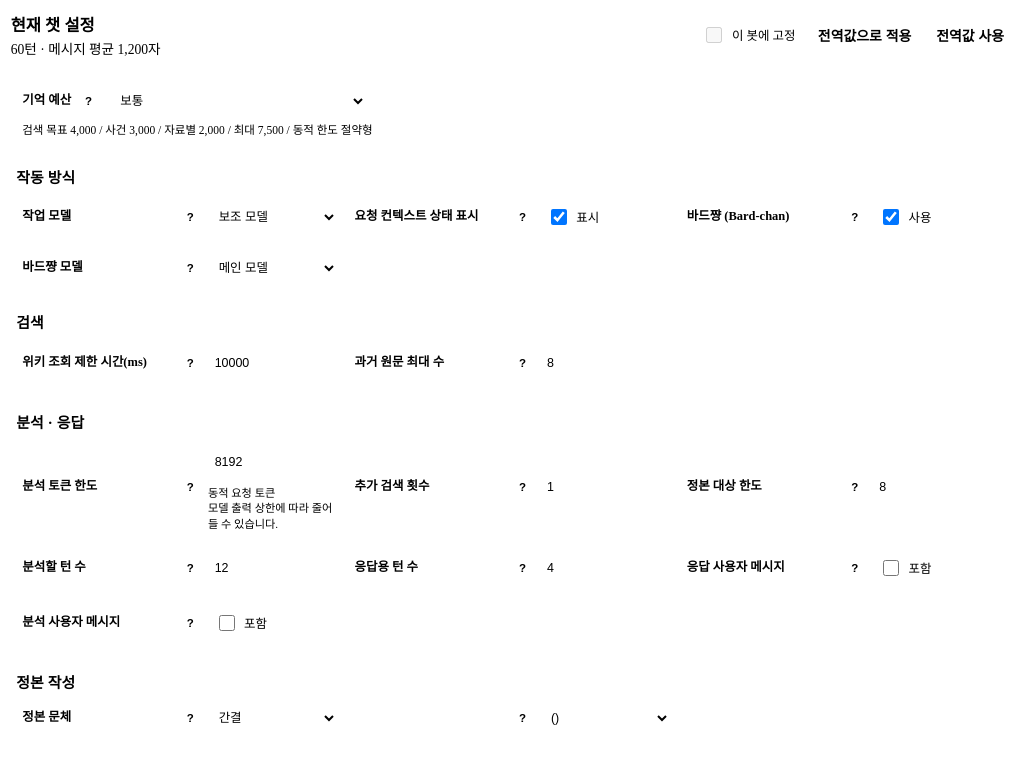
Test: RisuBardCurrentChatSettings › memory budget preset › writes the six tier values to the chat, keeps 커스텀 open without changing them, and tiers close it again
Select "넉넉" in the dropdown with id "bardwiki-memory-budget" at [238, 101], box x1=110 y1=85 x2=366 y2=117
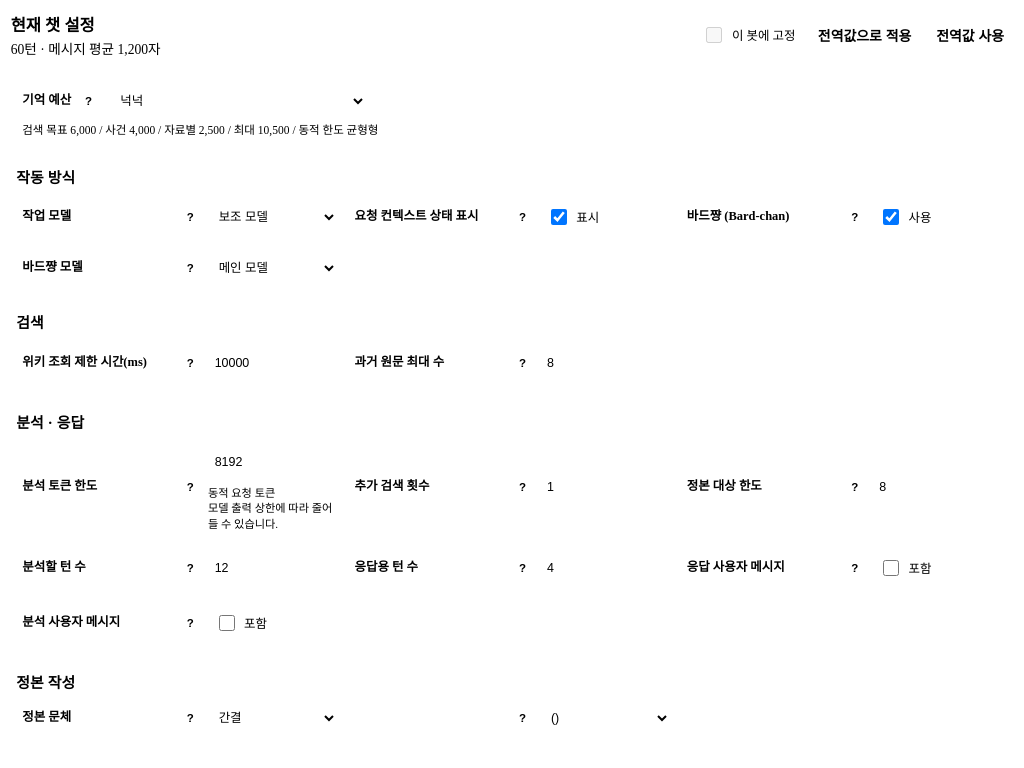
Now the element with id "bardwiki-memory-budget-summary" reads "검색 목표 6,000 / 사건 4,000 / 자료별 2,500 / 최대 10,500 / 동적 한도 균형형", box x1=22 y1=124 x2=378 y2=136
Select "커스텀" in the dropdown with id "bardwiki-memory-budget" at [238, 101], box x1=110 y1=85 x2=366 y2=117
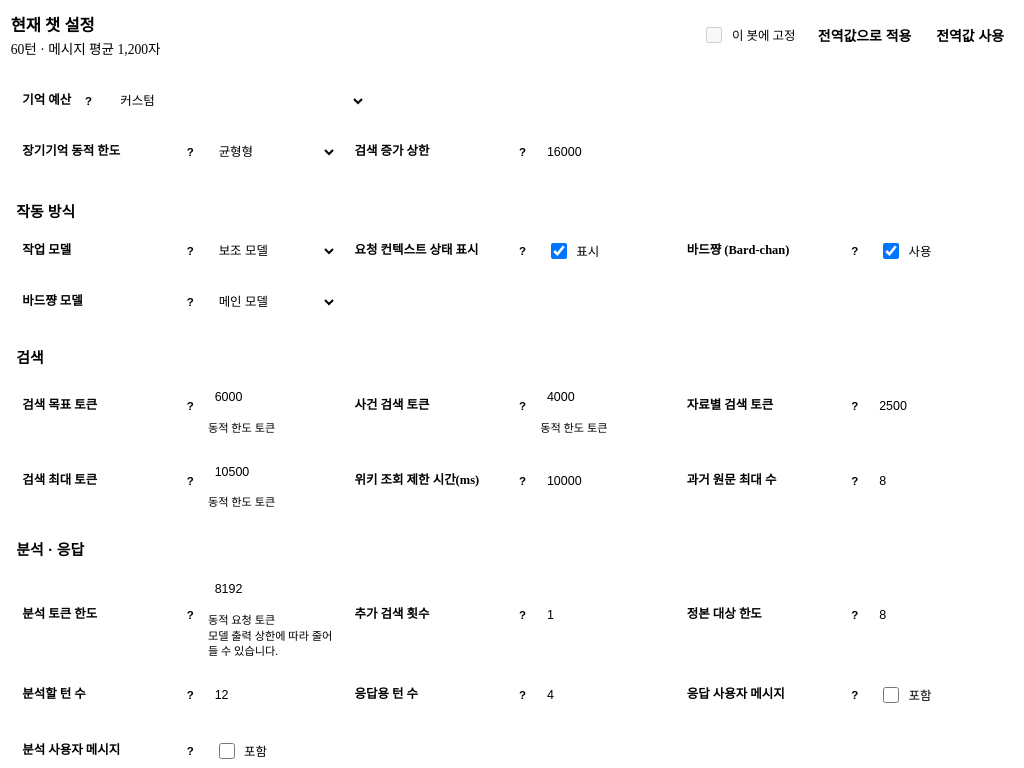
Now the element with id "bardwiki-memory-budget-summary" is gone
Now the number field with id "bardwiki-target-tokens" holds "6000", box x1=208 y1=376 x2=351 y2=417
Now the number field with id "bardwiki-source-tokens" holds "2500"
Replace the text in the number field with id "bardwiki-source-tokens" with "2600" at [944, 406], box x1=872 y1=386 x2=1015 y2=427
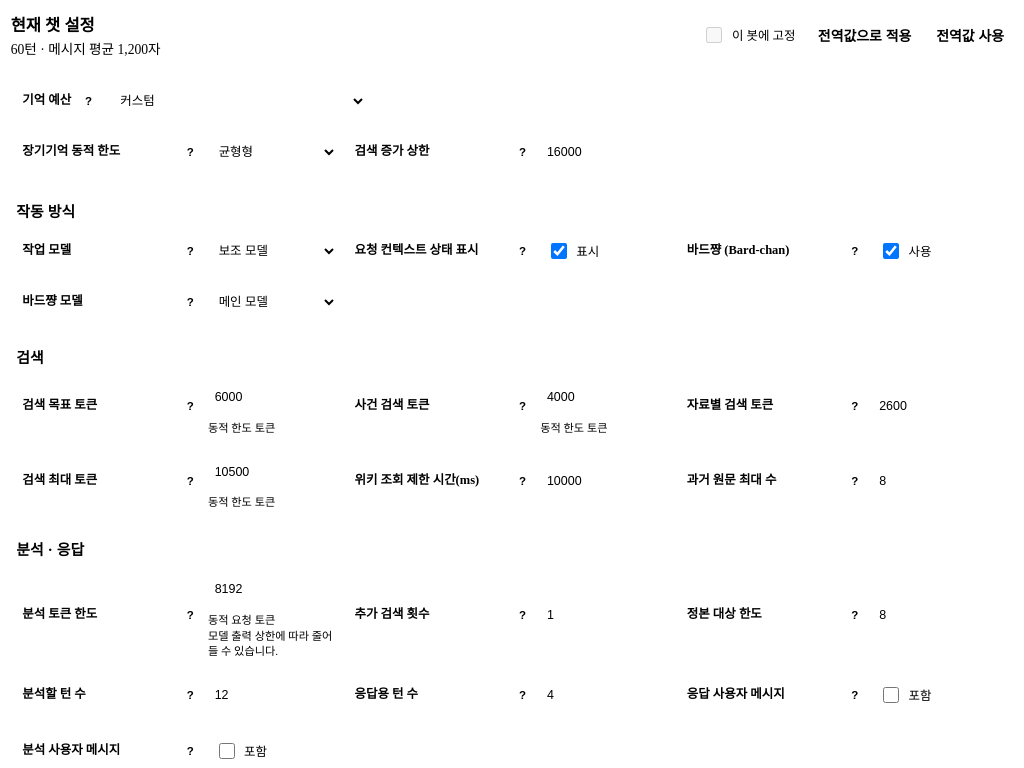
Select "절약" in the dropdown with id "bardwiki-memory-budget" at [238, 101], box x1=110 y1=85 x2=366 y2=117
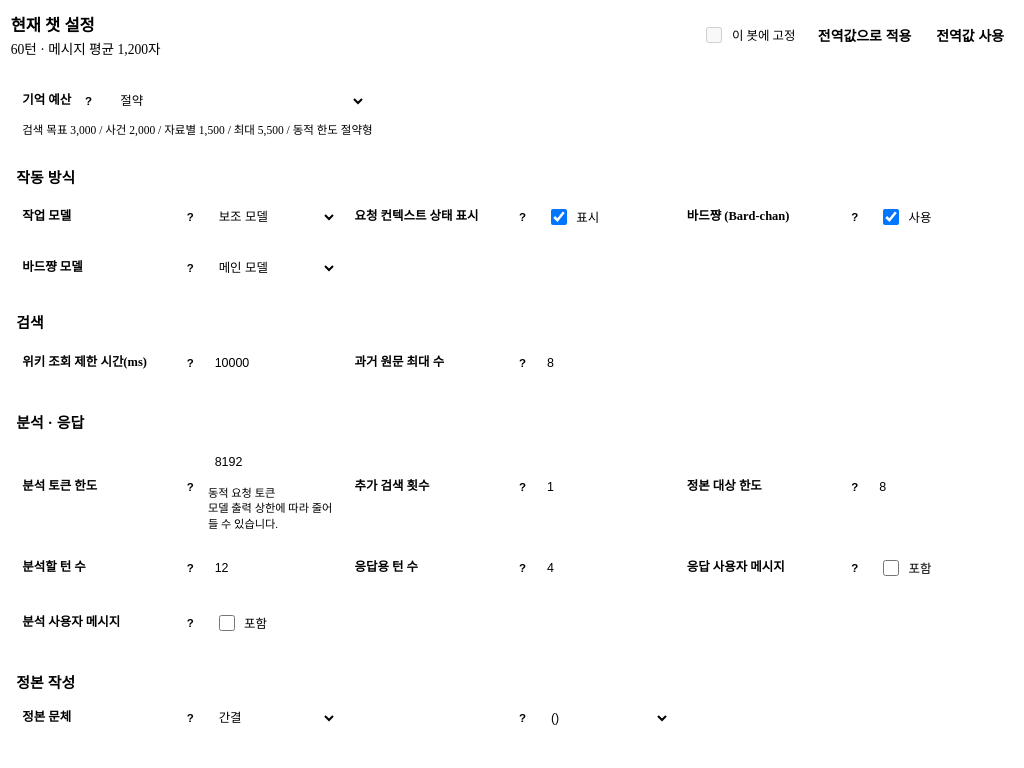
Now the element with id "bardwiki-memory-budget-summary" reads "검색 목표 3,000 / 사건 2,000 / 자료별 1,500 / 최대 5,500 / 동적 한도 절약형", box x1=22 y1=124 x2=373 y2=136
Now the label with id "bardwiki-source-tokens" is gone
